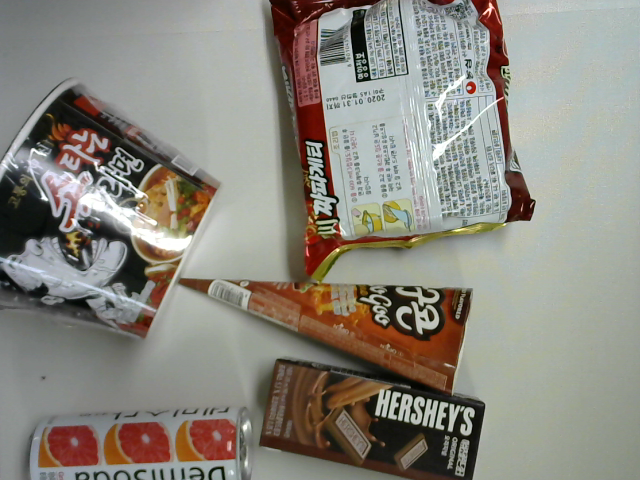Demisoda_Grapefruit_Can_250ml: (17, 397, 261, 480)
GooGoo_Cone_CVS: (169, 271, 486, 402)
HeJangsock: (1, 63, 227, 353)
Hush_Choco_Drink: (253, 353, 492, 480)
Sichuan_Chapaghetti: (261, 1, 546, 297)
